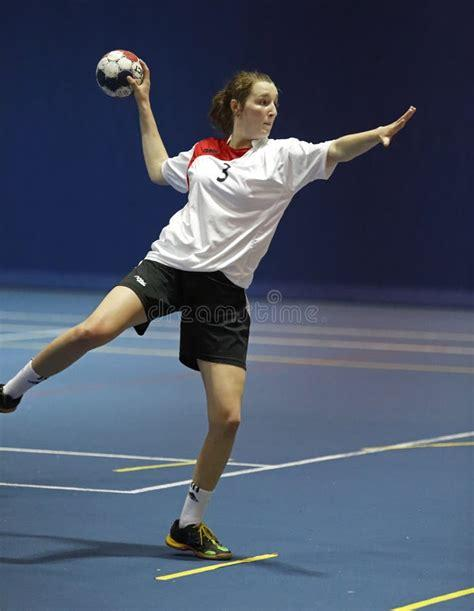ballon_handball: (94, 47, 144, 100)
